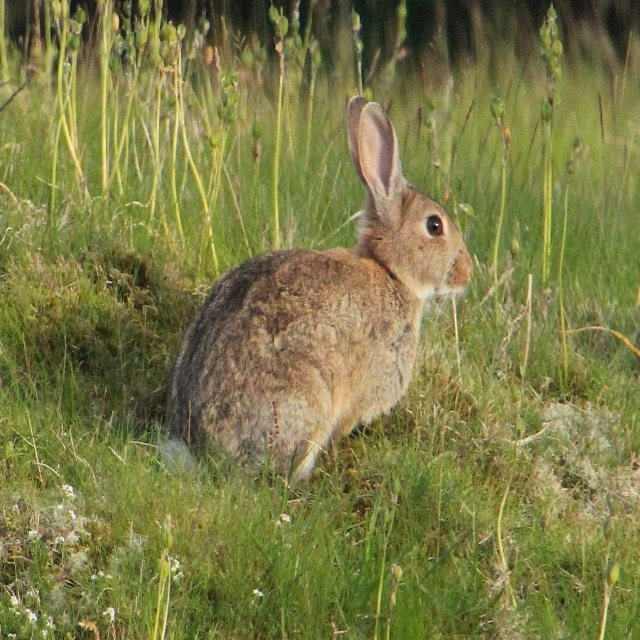Rabbit: (165, 95, 474, 493)
